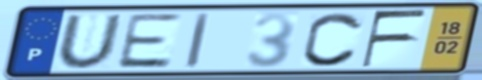3: (245, 10, 300, 70)
C: (300, 10, 367, 69)
E: (113, 12, 184, 71)
F: (358, 7, 431, 70)
I: (183, 11, 214, 70)
U: (55, 12, 126, 71)
